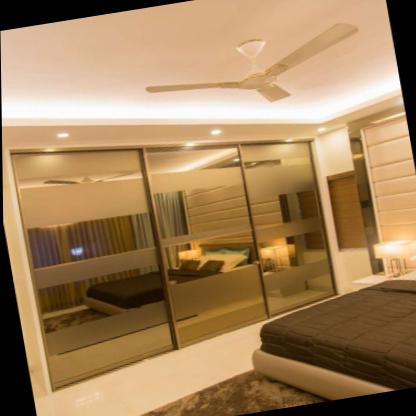Closet: (7, 136, 342, 397)
